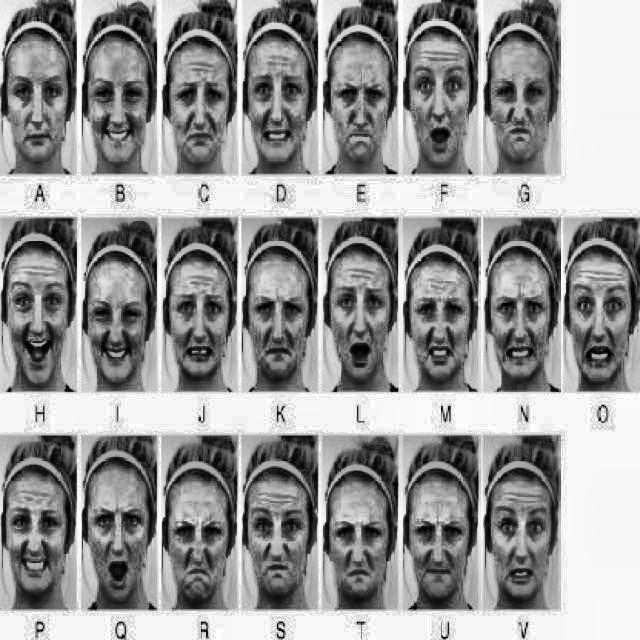happy: (89, 44, 149, 158)
neutral: (6, 39, 69, 163)
sad: (245, 242, 319, 384), (163, 39, 231, 161), (327, 480, 396, 598), (168, 480, 228, 603), (329, 61, 393, 163)
